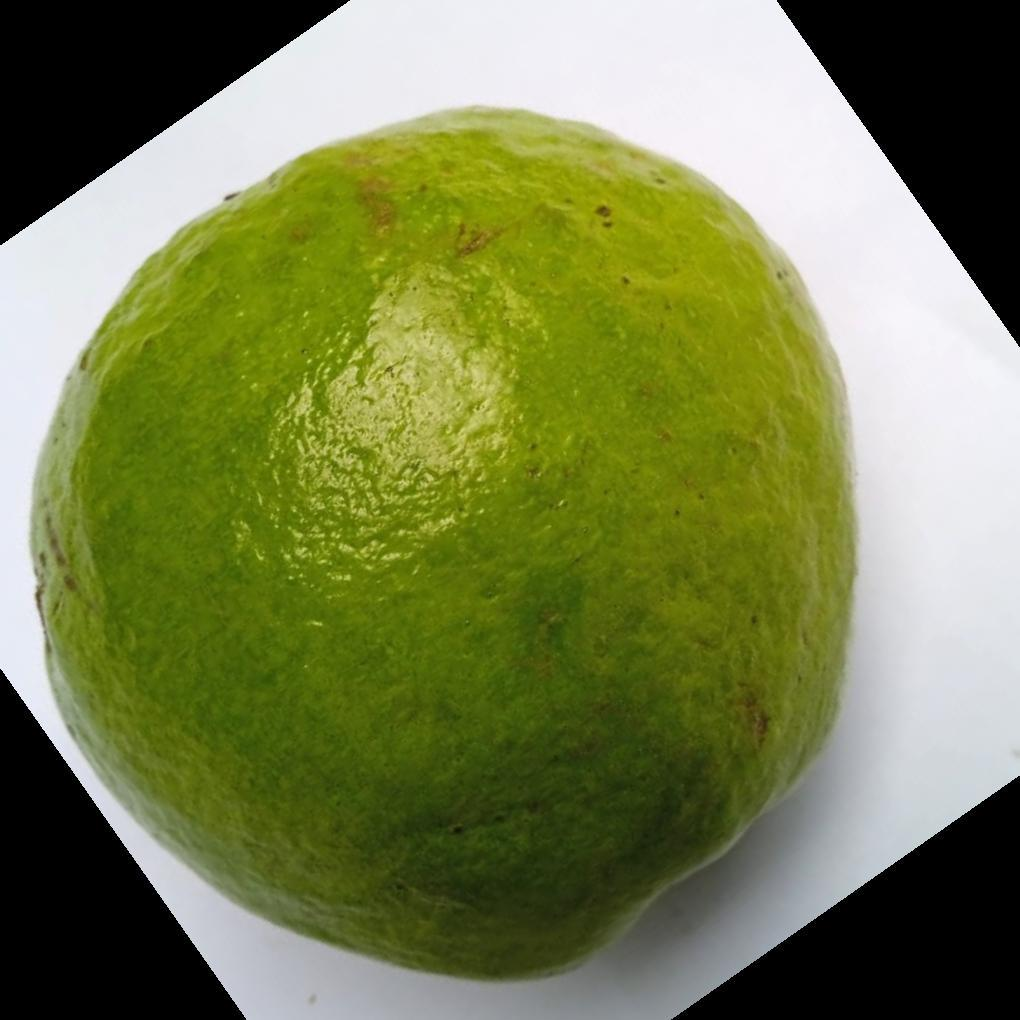FreshGuava: (24, 105, 861, 988)
